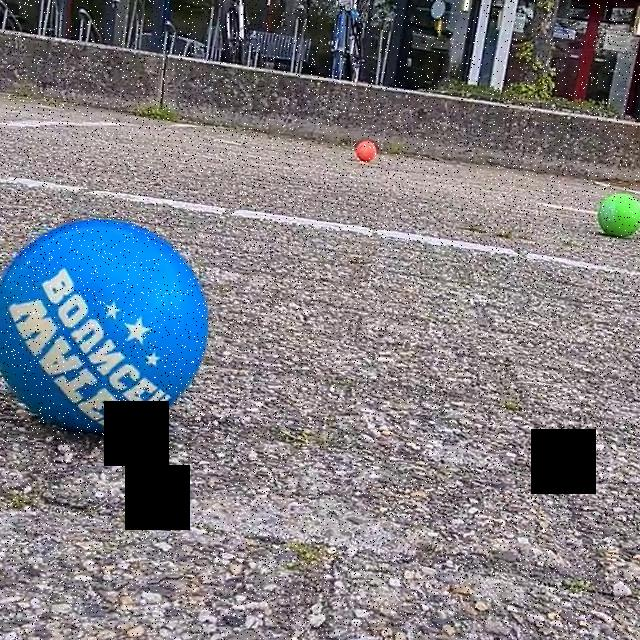ball: (595, 192, 640, 237), (355, 139, 376, 162)
